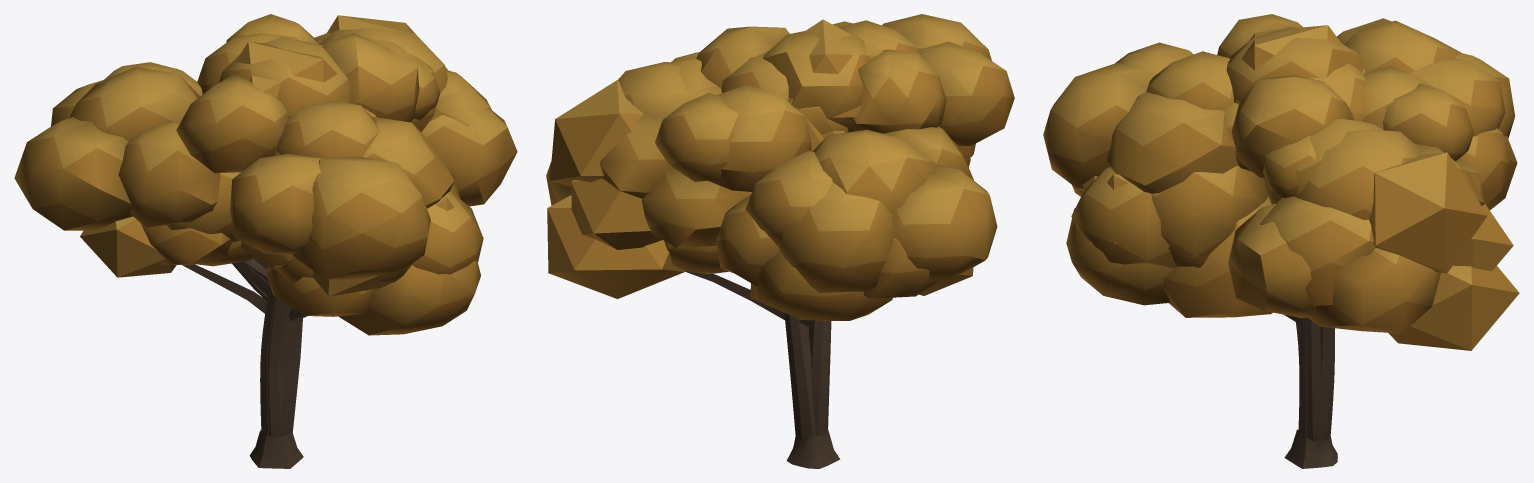
Rendered from arbol_arce.glb.
3 views of the same model, side by side, from view 1: azimuth 30°, elevation 25°; view 2: azimuth 150°, elevation 25°; view 3: azimuth 270°, elevation 25° (orthographic). The views are drawn at different scales.
Visible parts, largest first — view 1: hd_1, hd_0, hd_2, hd_3, lo_0, hd_1_trunk, lo_1, hd_0_trunk, hd_2_trunk, lo_3, lo_2, lo_0_trunk (+2 smaller); view 2: hd_1, hd_0, hd_2, lo_0, hd_3, lo_3, lo_2, hd_0_trunk, lo_1, hd_1_trunk, lo_0_trunk; view 3: hd_1, hd_3, hd_2, hd_0, lo_3, lo_0, hd_0_trunk, hd_3_trunk, lo_2, lo_1.
Boxes of the visible parts, bbox=[...] form: hd_1: bbox=[14, 32, 454, 279]; hd_0: bbox=[51, 14, 480, 335]; hd_2: bbox=[196, 33, 517, 284]; hd_3: bbox=[104, 40, 491, 284]; lo_0: bbox=[80, 216, 176, 277]; hd_1_trunk: bbox=[260, 286, 288, 436]; lo_1: bbox=[236, 41, 337, 97]; hd_0_trunk: bbox=[245, 259, 307, 468]; hd_2_trunk: bbox=[232, 263, 301, 436]; lo_3: bbox=[327, 15, 483, 238]; lo_2: bbox=[312, 239, 427, 296]; lo_0_trunk: bbox=[182, 264, 267, 313]; hd_1: bbox=[669, 14, 1014, 280]; hd_0: bbox=[599, 62, 970, 298]; hd_2: bbox=[664, 20, 975, 320]; lo_0: bbox=[547, 98, 973, 298]; hd_3: bbox=[546, 50, 848, 247]; lo_3: bbox=[550, 80, 845, 186]; lo_2: bbox=[571, 179, 662, 249]; hd_0_trunk: bbox=[784, 313, 840, 468]; lo_1: bbox=[806, 19, 882, 119]; hd_1_trunk: bbox=[808, 320, 830, 436]; lo_0_trunk: bbox=[685, 270, 814, 332]; hd_1: bbox=[1043, 14, 1461, 204]; hd_3: bbox=[1071, 57, 1505, 333]; hd_2: bbox=[1072, 51, 1517, 318]; hd_0: bbox=[1066, 53, 1515, 317]; lo_3: bbox=[1107, 152, 1487, 273]; lo_0: bbox=[1362, 69, 1519, 350]; hd_0_trunk: bbox=[1284, 315, 1337, 468]; hd_3_trunk: bbox=[1299, 317, 1321, 441]; lo_2: bbox=[1072, 176, 1513, 271]; lo_1: bbox=[1241, 25, 1341, 70].
Size of the model in its own units: 5.75 by 5.21 by 5.3.
